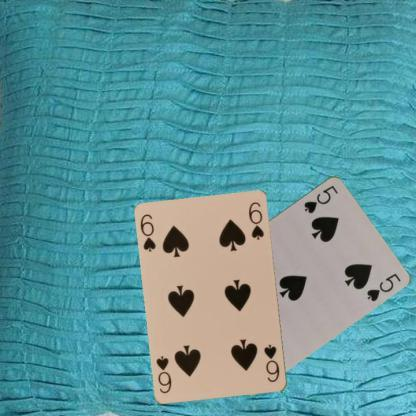5s: (301, 182, 339, 215)
6s: (138, 211, 158, 254), (261, 342, 281, 384)
